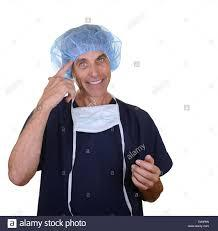Wore Mask Incorrectly: (49, 21, 142, 145)
